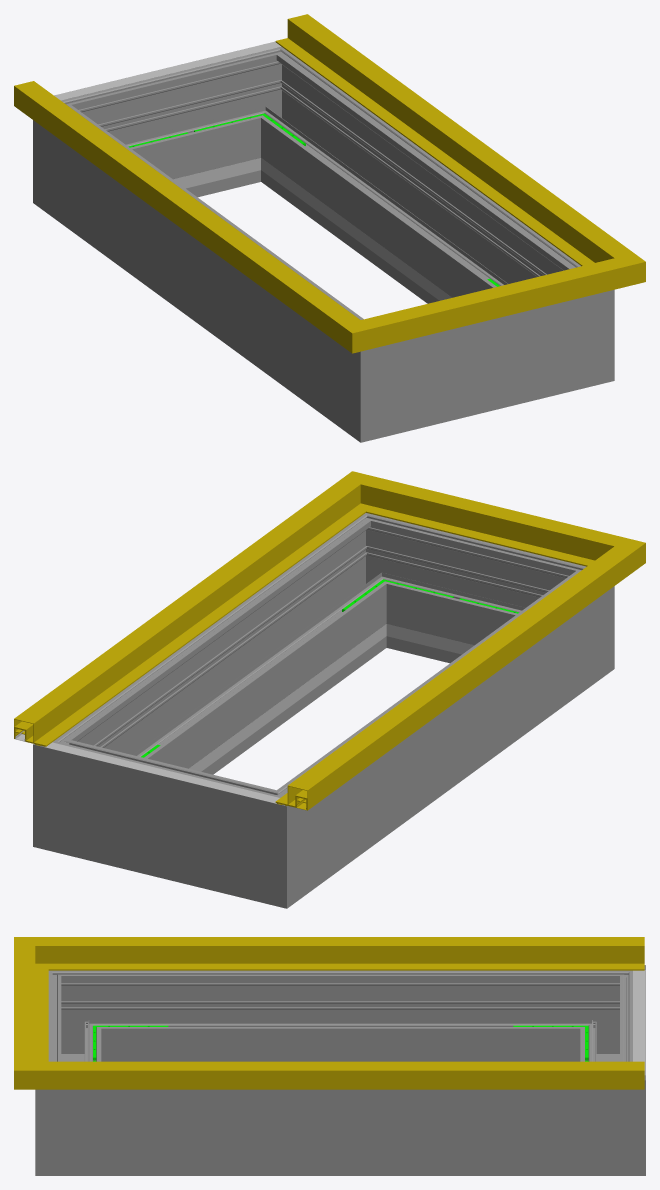
The picture shows the model from 3 angles, top to bottom: view 1: azimuth 30°, elevation 25°; view 2: azimuth 150°, elevation 25°; view 3: azimuth 270°, elevation 25°; orthographic projection. The views are drawn at different scales.
Parts seen in each view (by area): view 1: 3DGeom-297, 3DGeom-268, 3DGeom-128, 3DGeom-118, 3DGeom-276, 3DGeom-270, 3DGeom-298, 3DGeom-284, 3DGeom-290, 3DGeom-278, 3DGeom-123, 3DGeom-120 (+4 smaller); view 2: 3DGeom-297, 3DGeom-268, 3DGeom-128, 3DGeom-118, 3DGeom-278, 3DGeom-276, 3DGeom-298, 3DGeom-284, 3DGeom-290, 3DGeom-123, 3DGeom-270, 3DGeom-125 (+4 smaller); view 3: 3DGeom-268, 3DGeom-297, 3DGeom-118, 3DGeom-128, 3DGeom-290, 3DGeom-284, 3DGeom-270, 3DGeom-278, 3DGeom-120, 3DGeom-125, 3DGeom-123, 3DGeom-220 (+2 smaller).
Part boxes in pixels (box(x1,y1,x2,y2)): 3DGeom-297: box(268, 73, 559, 303); 3DGeom-268: box(75, 125, 342, 411); 3DGeom-128: box(275, 14, 603, 258); 3DGeom-118: box(14, 81, 329, 322); 3DGeom-276: box(110, 57, 248, 197); 3DGeom-270: box(318, 303, 433, 442); 3DGeom-298: box(434, 307, 541, 424); 3DGeom-284: box(220, 44, 316, 186); 3DGeom-290: box(541, 250, 614, 398); 3DGeom-278: box(33, 84, 141, 233); 3DGeom-123: box(414, 271, 572, 335); 3DGeom-120: box(310, 297, 425, 353); 3DGeom-297: box(87, 538, 379, 774); 3DGeom-268: box(305, 592, 572, 877); 3DGeom-128: box(14, 502, 341, 746); 3DGeom-118: box(275, 569, 603, 810); 3DGeom-278: box(213, 769, 329, 908); 3DGeom-276: box(106, 752, 227, 890); 3DGeom-298: box(398, 528, 533, 663); 3DGeom-284: box(33, 716, 119, 864); 3DGeom-290: box(330, 513, 426, 652); 3DGeom-123: box(407, 489, 571, 558); 3DGeom-270: box(506, 554, 614, 699); 3DGeom-125: box(310, 471, 425, 529); 3DGeom-268: box(114, 970, 566, 1061); 3DGeom-297: box(114, 1089, 566, 1175); 3DGeom-118: box(93, 937, 644, 970); 3DGeom-128: box(93, 1061, 644, 1089); 3DGeom-290: box(35, 1047, 114, 1175); 3DGeom-284: box(567, 1047, 645, 1175); 3DGeom-270: box(48, 970, 114, 1061); 3DGeom-278: box(567, 965, 645, 1061); 3DGeom-120: box(14, 937, 92, 987); 3DGeom-125: box(14, 1037, 92, 1089); 3DGeom-123: box(14, 970, 48, 1054); 3DGeom-220: box(633, 970, 645, 1075).
Size of the model in its own units: 0.6096 by 0.2434 by 1.22.
